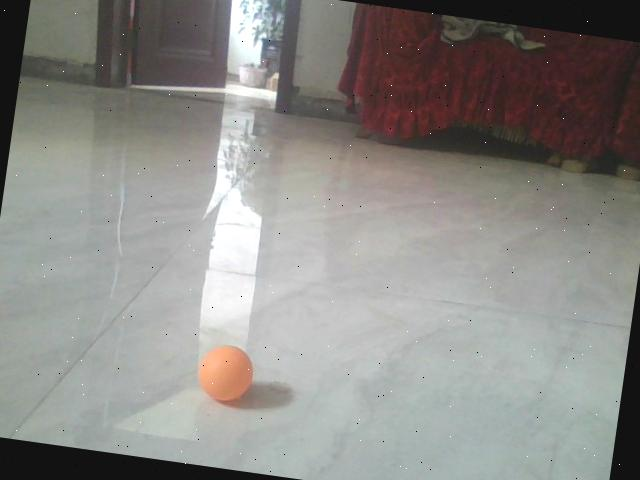ball: (195, 344, 256, 404)
